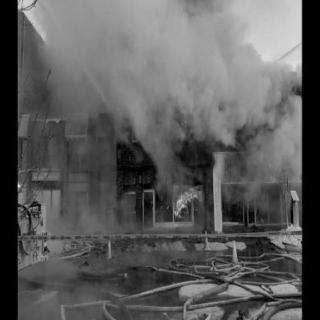Smoke: (244, 50, 301, 176)
